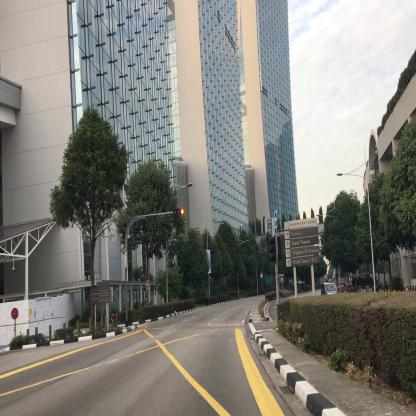red_traffic_light: (174, 209, 184, 214)
